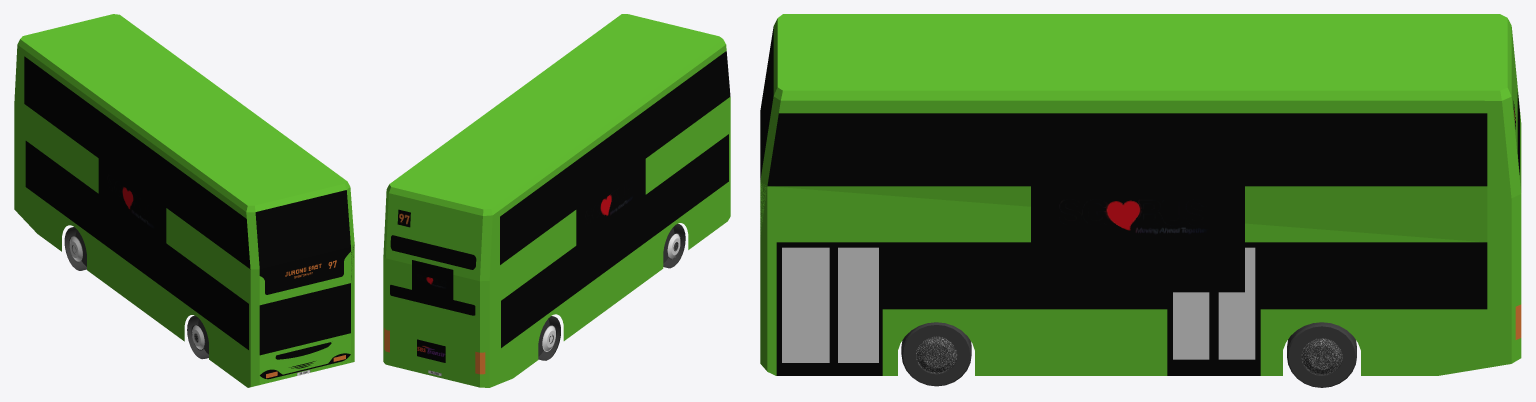
Rendered from carBusBus.fbx.
3 views of the same model, side by side, from view 1: azimuth 30°, elevation 25°; view 2: azimuth 150°, elevation 25°; view 3: azimuth 270°, elevation 25° (orthographic). The views are drawn at different scales.
Parts seen in each view (by area): view 1: Bus number; view 2: Bus number; view 3: Bus number.
Part boxes in pixels (bbox=[...]): Bus number: bbox=[14, 14, 354, 387]; Bus number: bbox=[383, 14, 730, 387]; Bus number: bbox=[760, 14, 1521, 387].
Size of the model in its own units: 225 by 386 by 896.
Materials: 11 (5 with a texture image).
